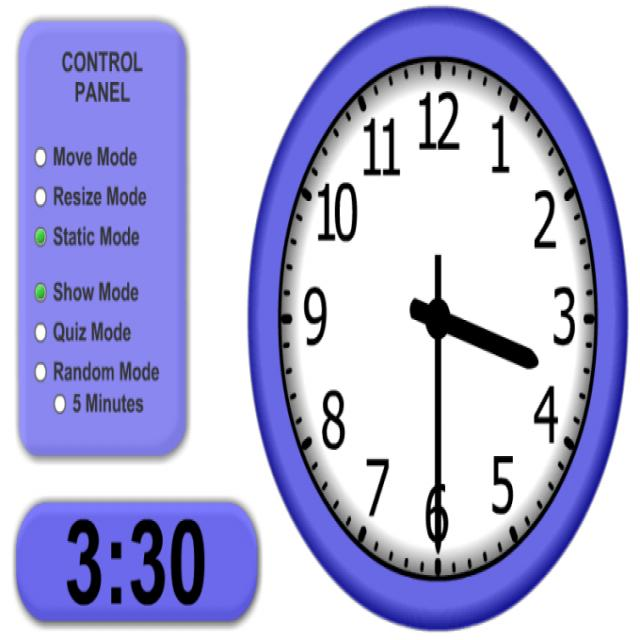clock: (219, 33, 640, 625)
